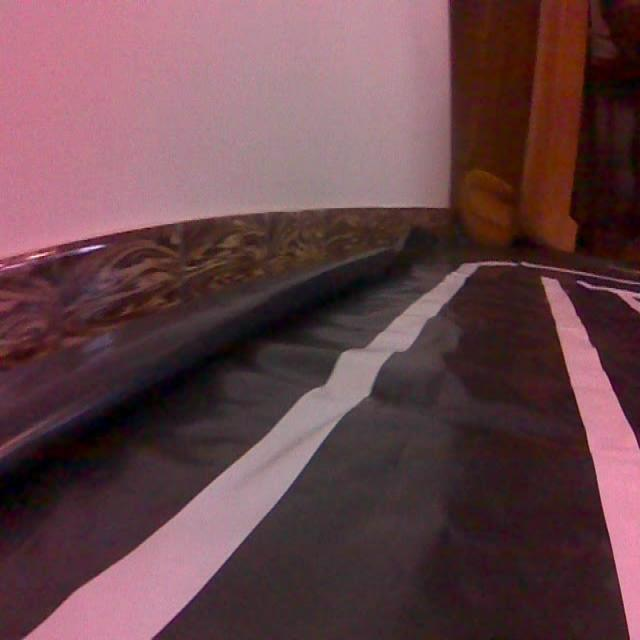LineaCarril: (28, 264, 480, 638), (541, 277, 640, 638)
